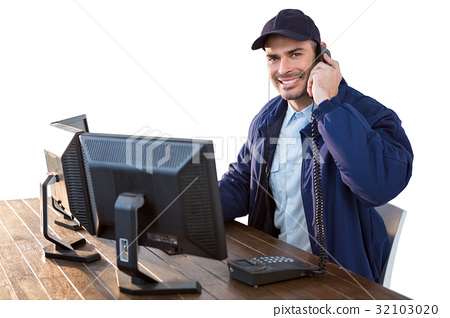phone: (305, 49, 332, 91)
talk: (268, 42, 340, 103)
